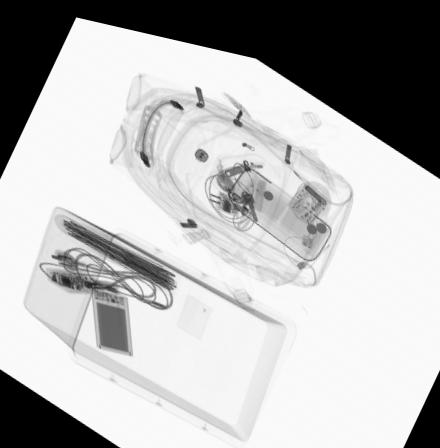Powerbank: (91, 282, 133, 349)
